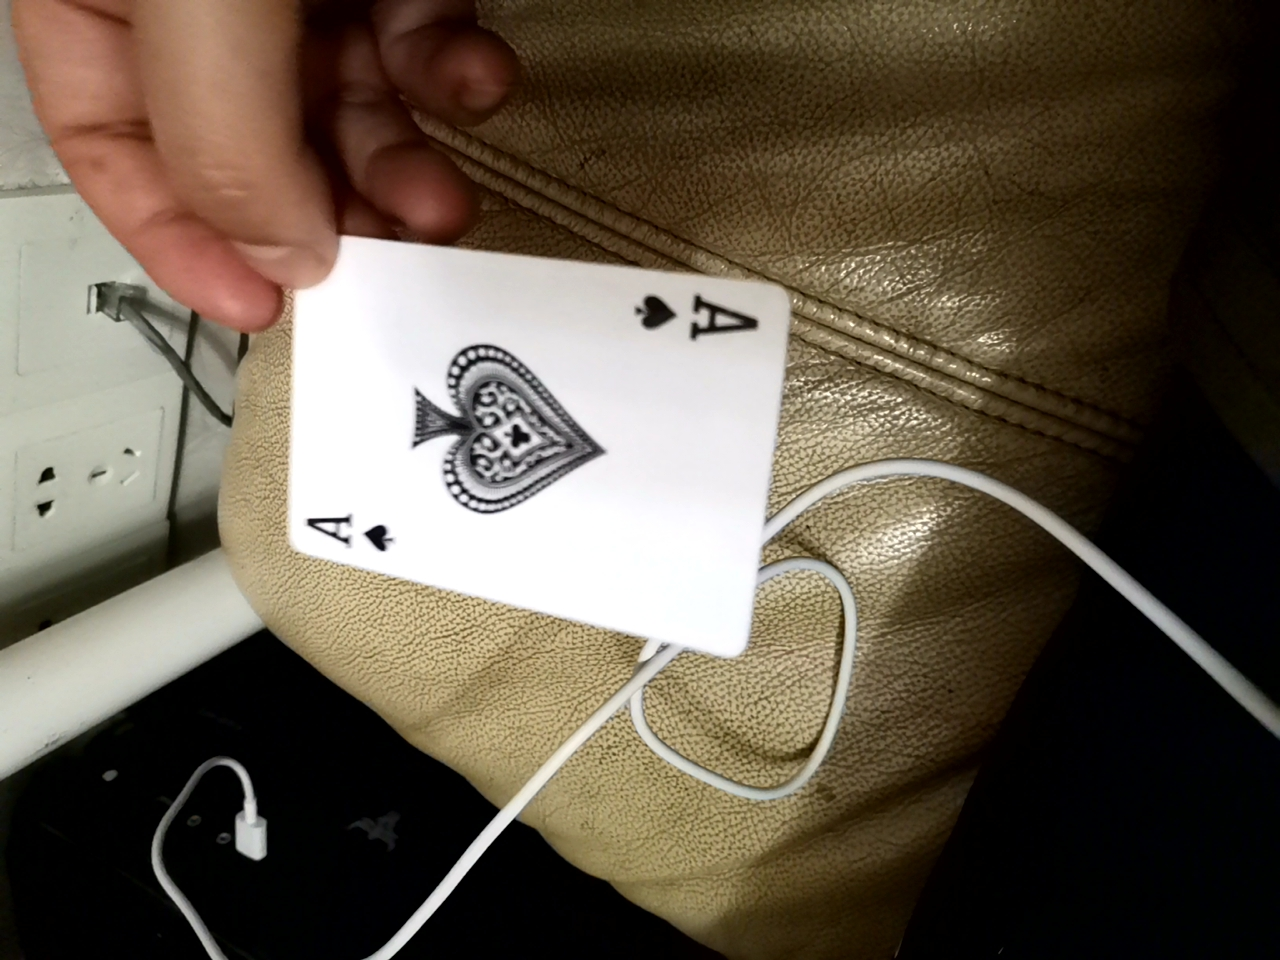ht a: (274, 227, 794, 657)
